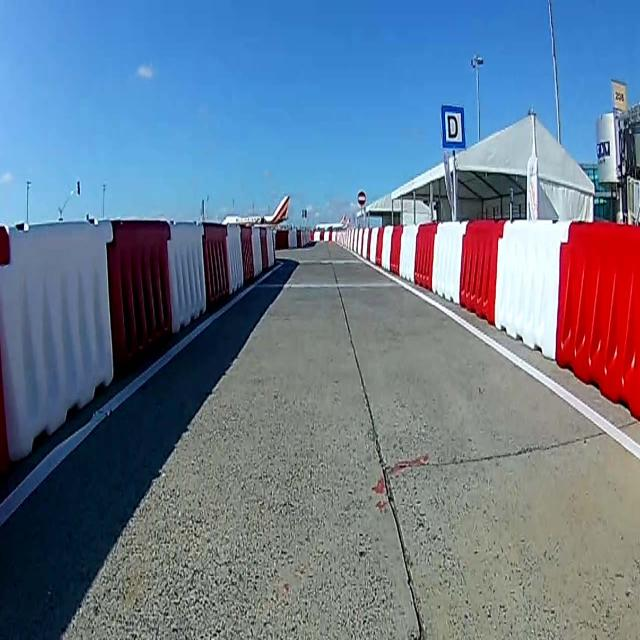durak: (441, 105, 465, 150)
girisyok: (357, 190, 366, 206)
